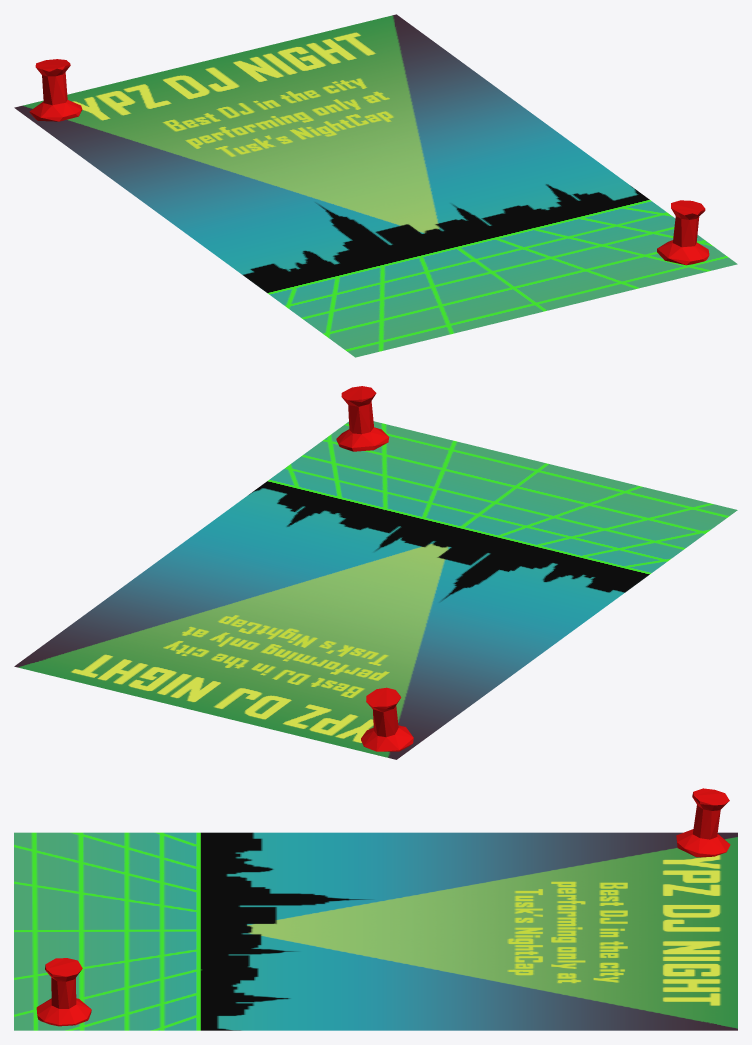
File: posters4.fbx
The picture shows the model from 3 angles, top to bottom: view 1: azimuth 30°, elevation 25°; view 2: azimuth 150°, elevation 25°; view 3: azimuth 270°, elevation 25°; orthographic projection. The views are drawn at different scales.
Parts seen in each view (by area): view 1: Poster_4_, Cylinder.002; view 2: Poster_4_, Cylinder.002; view 3: Poster_4_, Cylinder.002.
Part boxes in pixels (<box>): Poster_4_: <box>14,14,737,357</box>; Cylinder.002: <box>29,59,709,265</box>; Poster_4_: <box>14,421,737,759</box>; Cylinder.002: <box>336,386,413,751</box>; Poster_4_: <box>14,832,737,1030</box>; Cylinder.002: <box>36,788,730,1026</box>.
Bounding box in the file's own units: 64.71 × 8.64 × 100.
